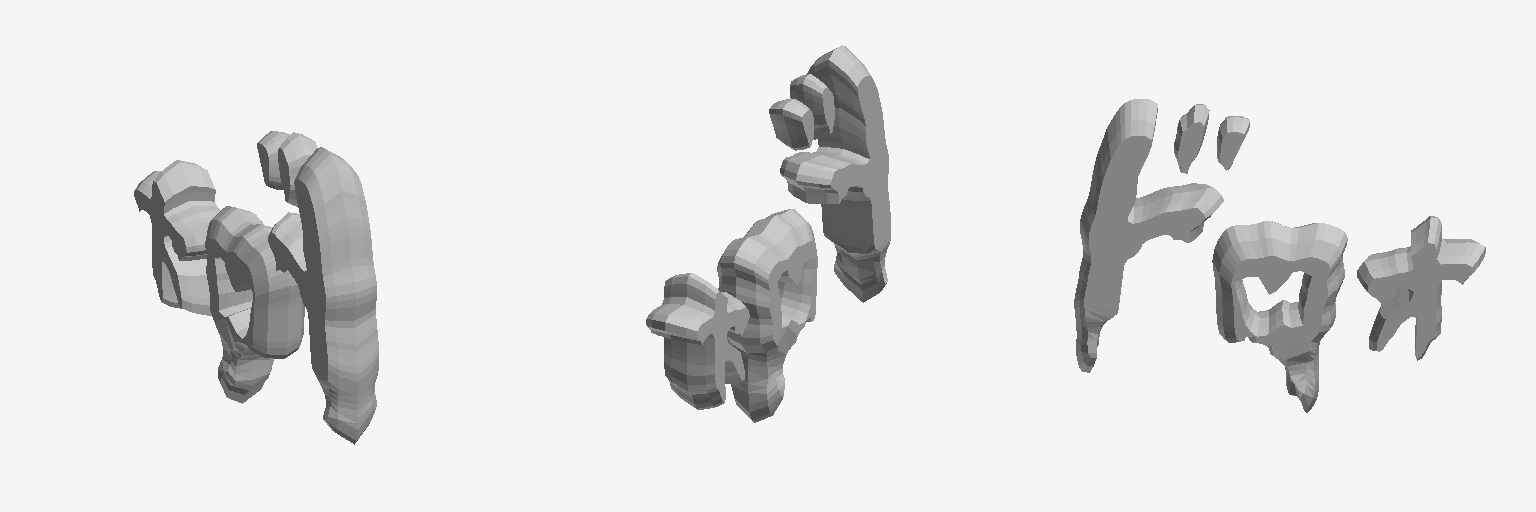
The model's file is doroxo.obj.
3 renders of one model, left to right at view 1: azimuth 30°, elevation 25°; view 2: azimuth 150°, elevation 25°; view 3: azimuth 270°, elevation 25°, orthographic.
Parts seen in each view (by area): view 1: ド, ロ, ォ; view 2: ド, ロ, ォ; view 3: ド, ロ, ォ.
Part boxes in pixels (x1,y1,x2,y2): ド: (257, 131, 378, 444); ロ: (205, 206, 304, 403); ォ: (134, 160, 220, 315); ド: (769, 45, 890, 302); ロ: (717, 209, 817, 422); ォ: (646, 273, 749, 409); ド: (1074, 99, 1249, 372); ロ: (1212, 221, 1347, 412); ォ: (1357, 216, 1485, 360).
Size of the model in its own units: 0.6 by 3.54 by 4.19.